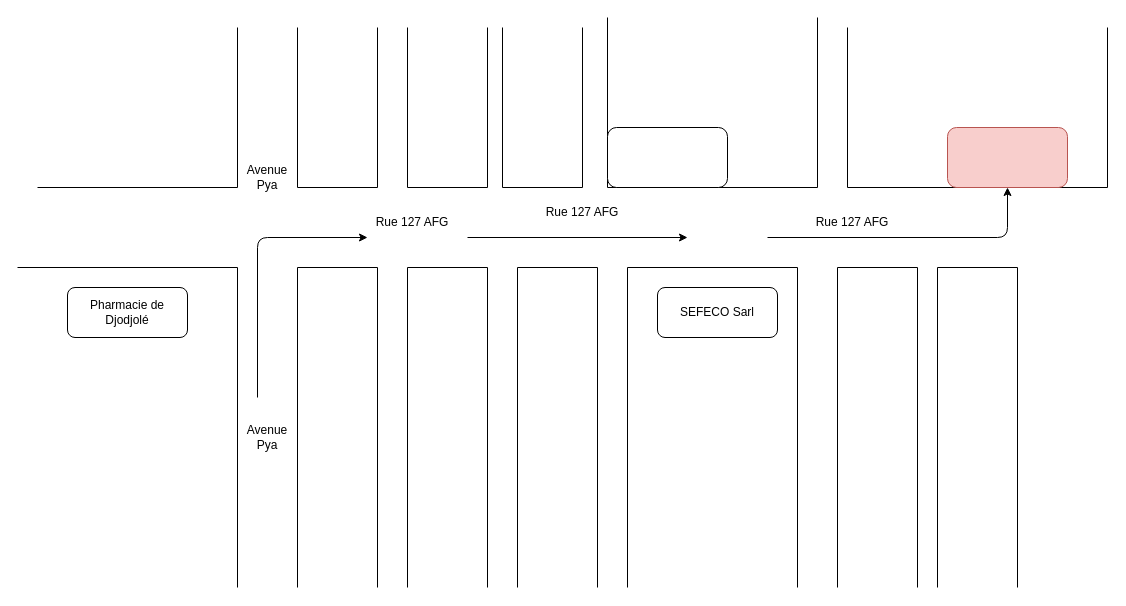
This 1126x606 diagram has some shape labels left out. Here are the shapes that lost their labels. From the top down, the centre of each, then its label:
At point (667, 157): "Le sauveur".
At point (1007, 157): "NITCH CORP".
